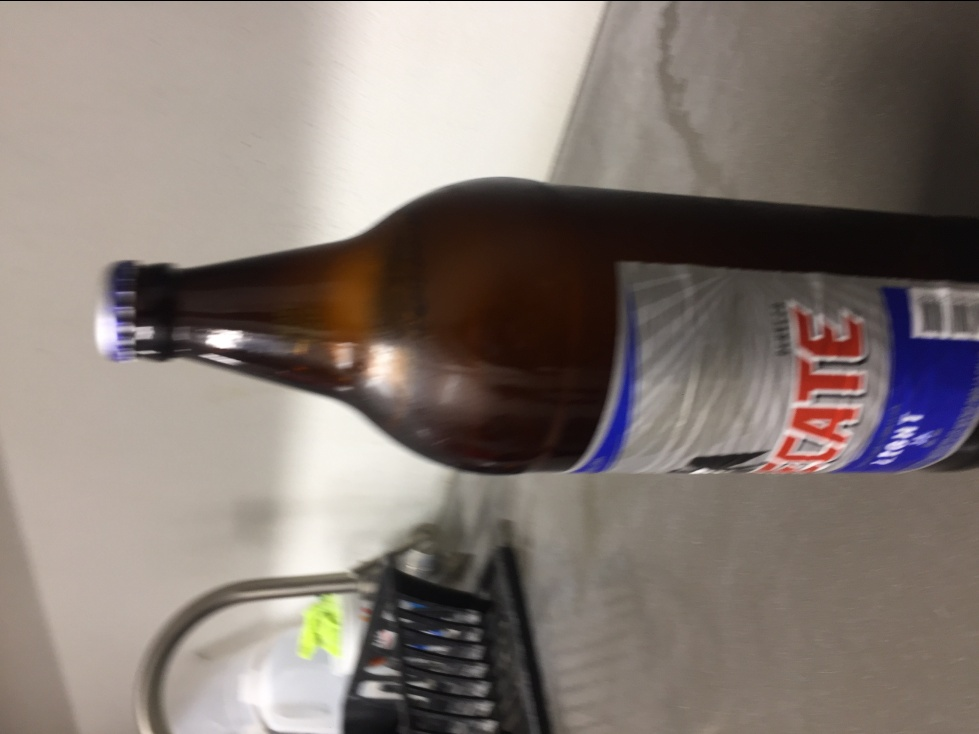tecateC: (80, 175, 979, 482)
